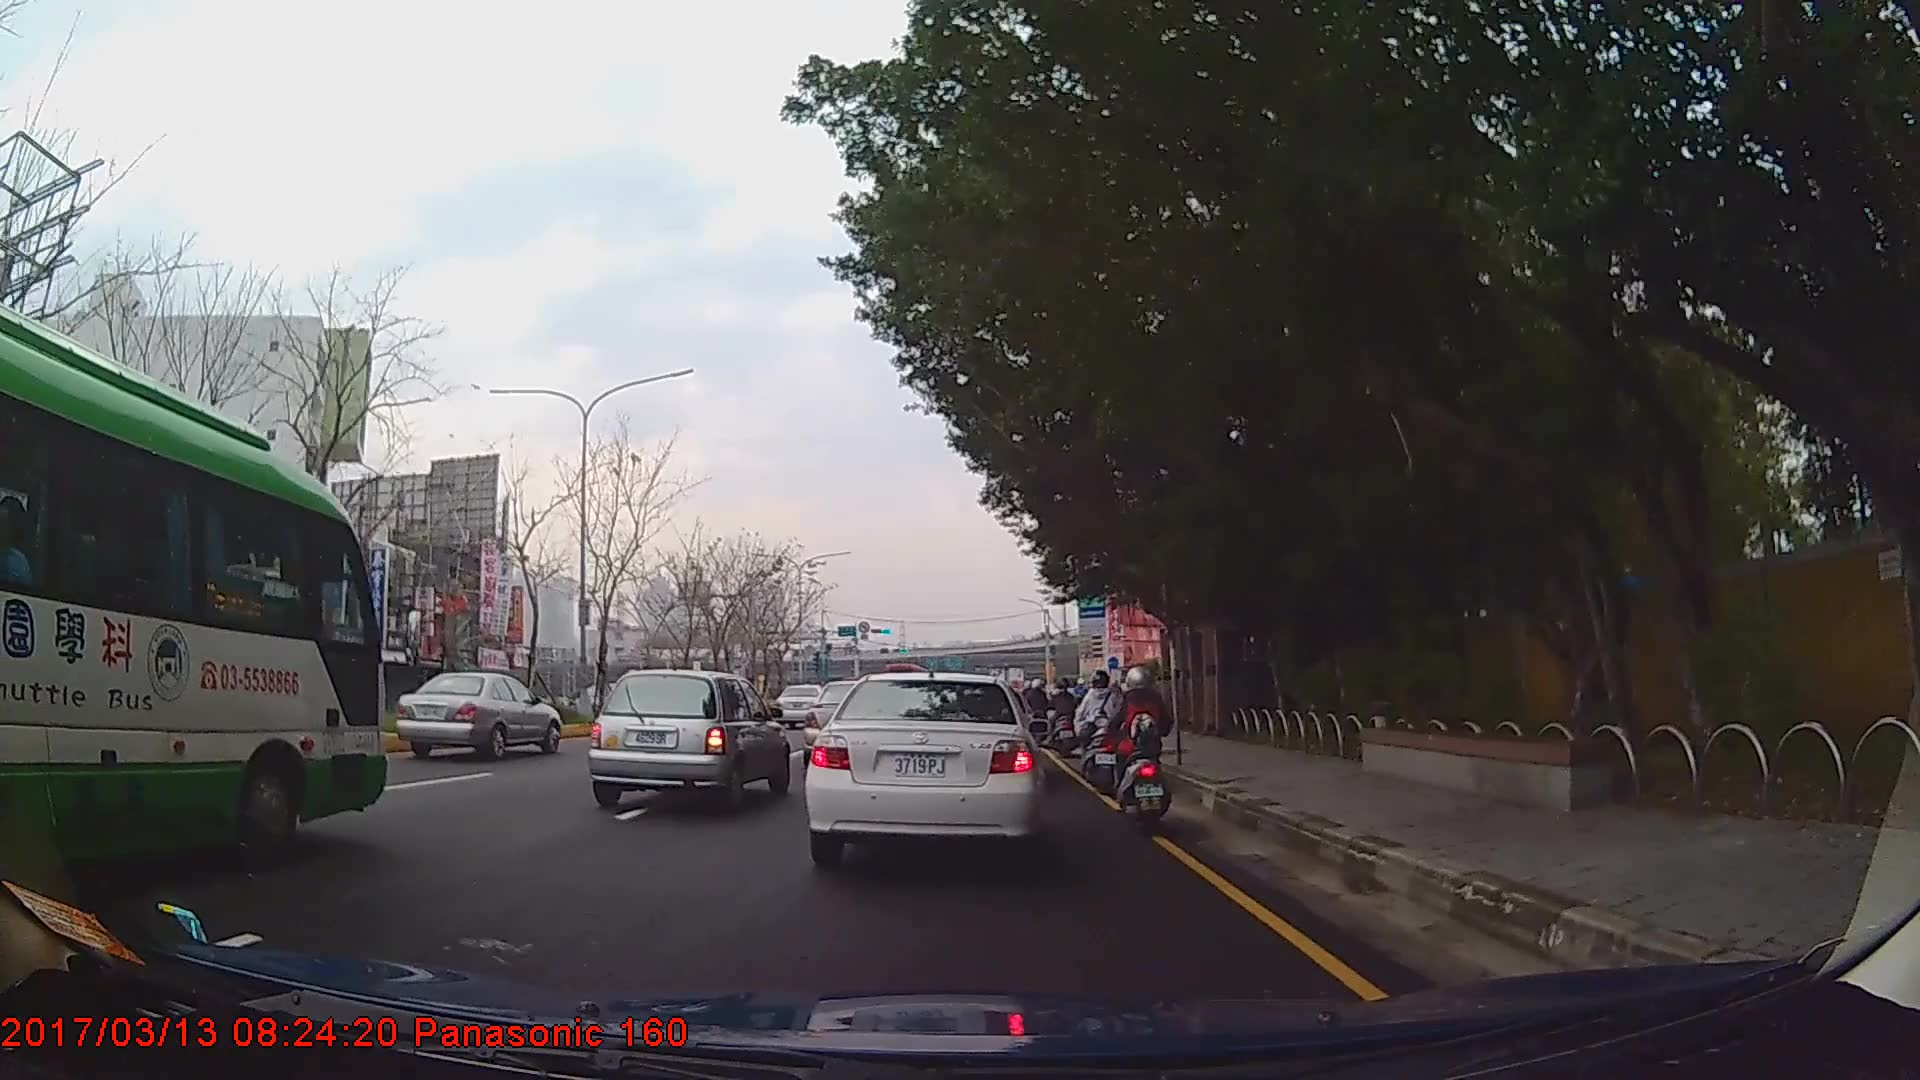rider: (1104, 661, 1164, 820), (1078, 669, 1121, 788), (1050, 680, 1077, 748)
vehicle: (0, 295, 387, 883), (801, 670, 1044, 859), (586, 669, 791, 812), (395, 670, 559, 763), (775, 683, 830, 727)
